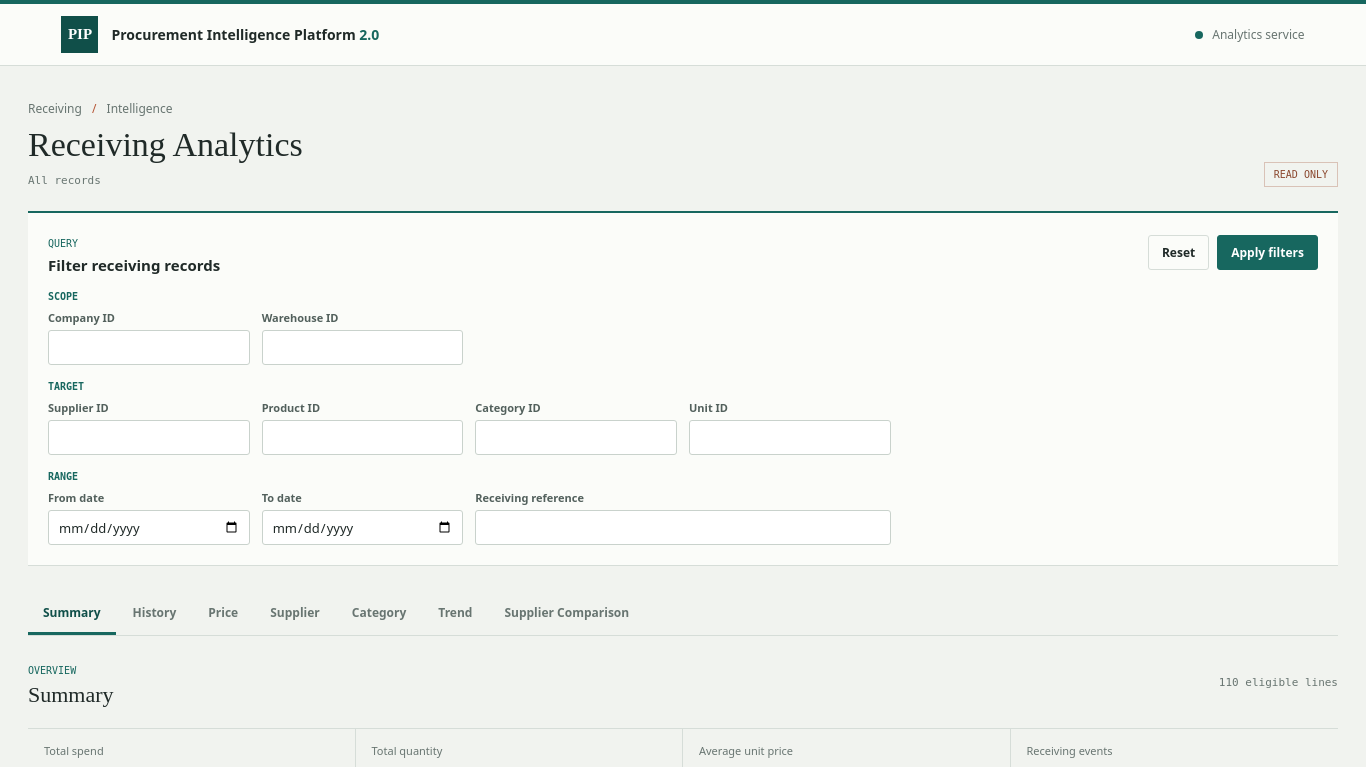
Test: Receiving Analytics frontend › supports client-side sorting without mutating API data
This screenshot has width=1366, height=767.
Click the tab "Supplier Comparison" at (567, 614), box [489,592,644,635]
(page scrolled)
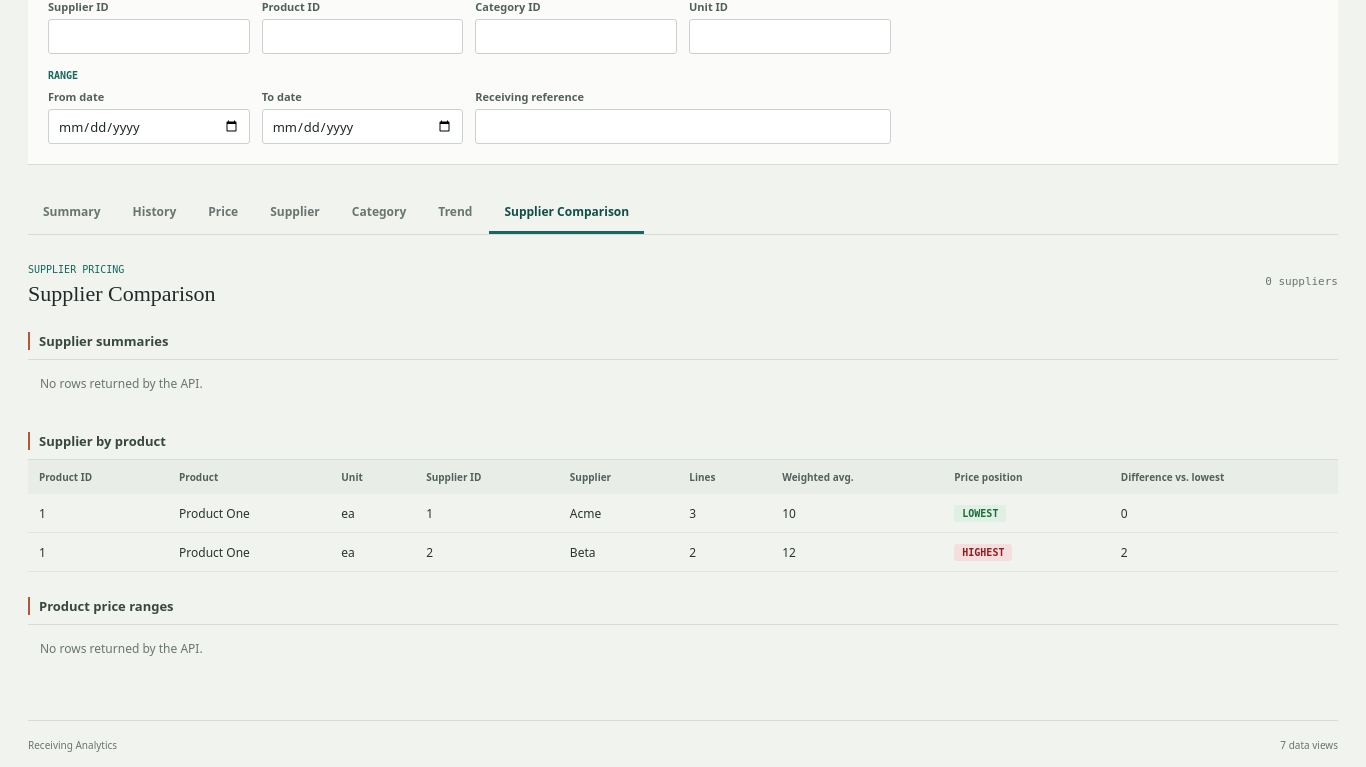
Expected: the row "1 Product One ea 1 Acme 3 10 LOWEST 0" is shown, [28,494,1338,533]
Click the button "Price position" at (1027, 477), box [943,460,1110,494]
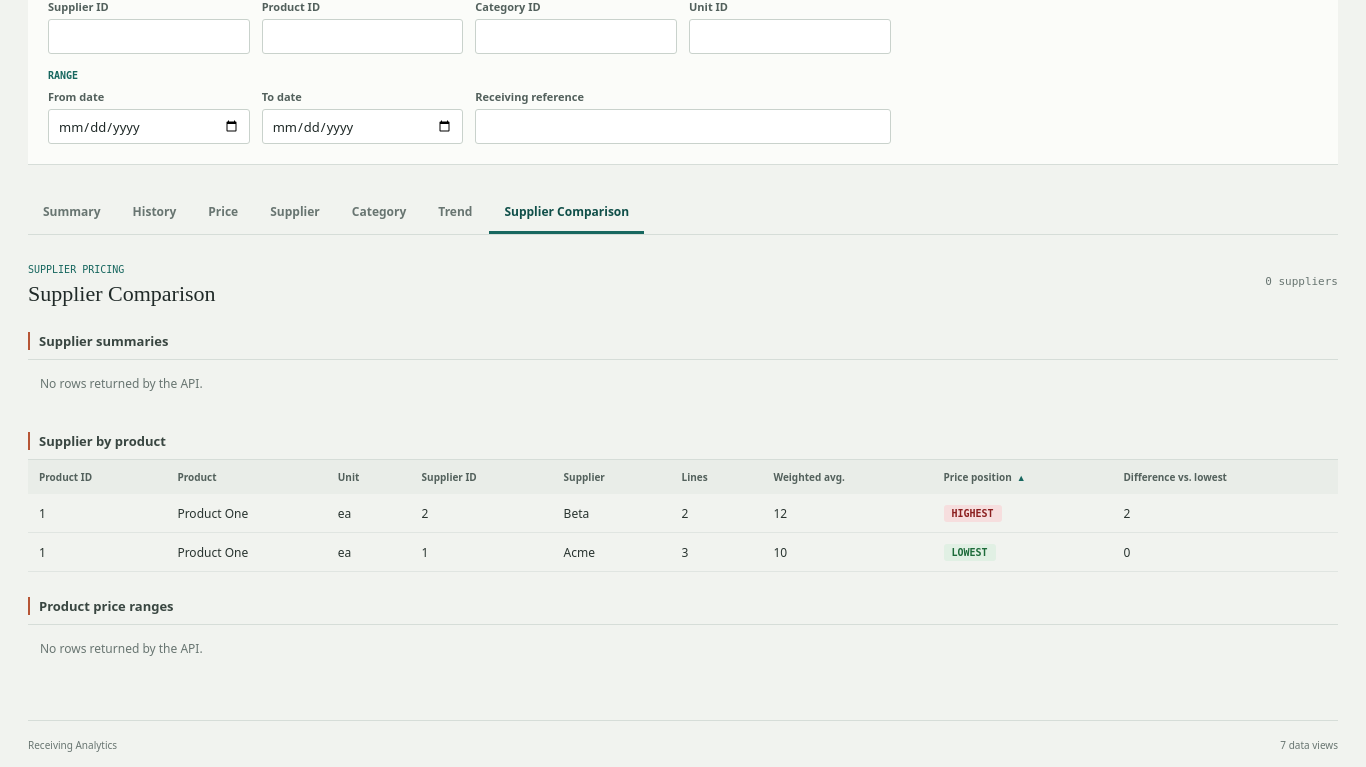
Expected: the row "1 Product One ea 2 Beta 2 12 HIGHEST 2" is shown, [28,494,1338,533]
